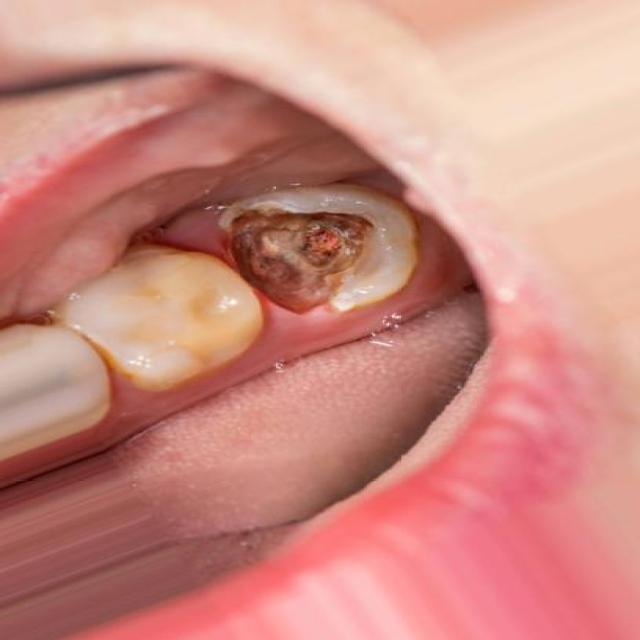caries: (208, 194, 408, 326)
